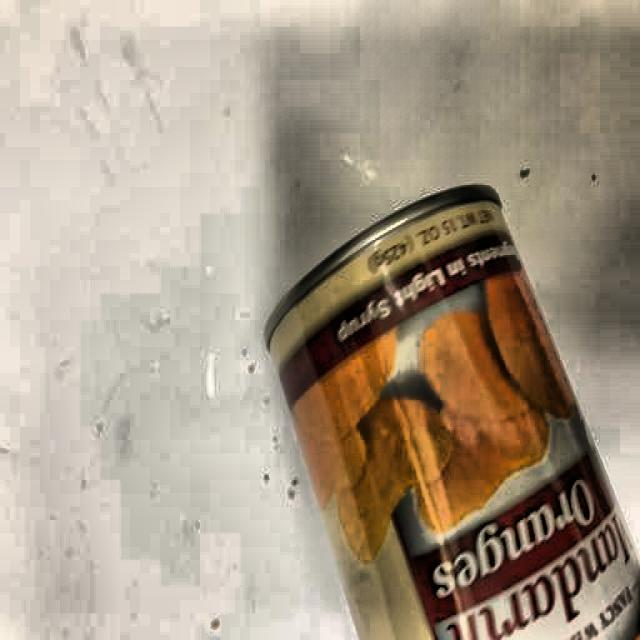metal: (262, 183, 640, 640)
